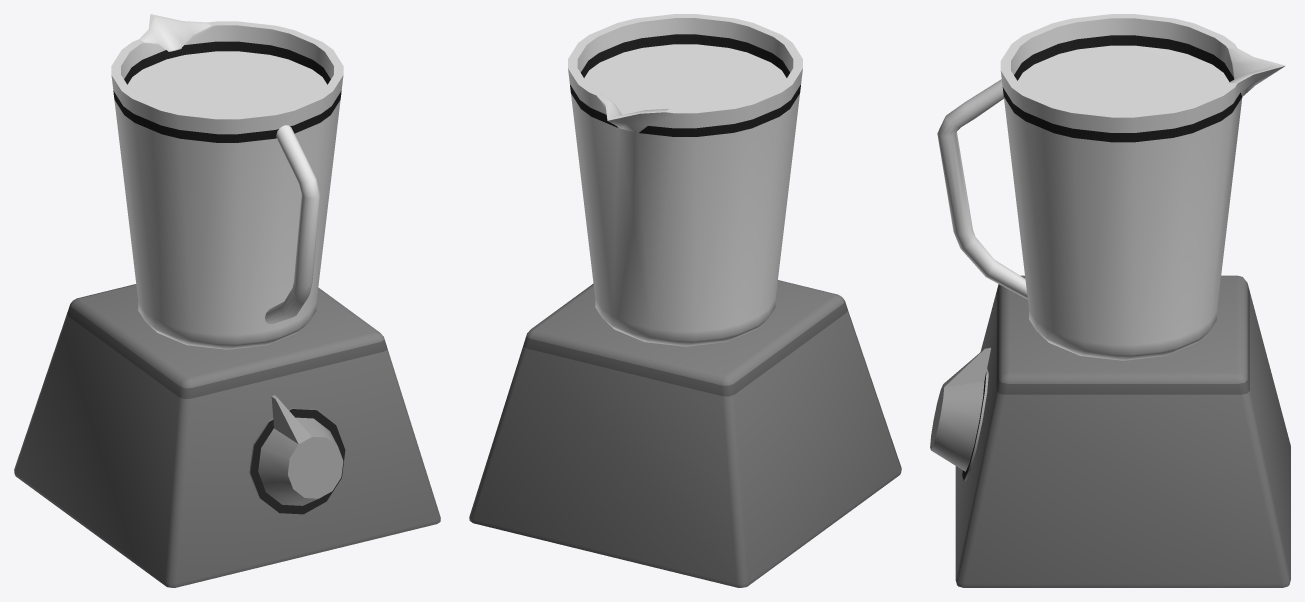
Rendered from blender_model.fbx.
3 renders of one model, left to right at view 1: azimuth 30°, elevation 25°; view 2: azimuth 150°, elevation 25°; view 3: azimuth 270°, elevation 25°, orthographic. The views are drawn at different scales.
Visible parts, largest first — view 1: blender_model_base, blender_model, Cylinder, blender_button; view 2: blender_model_base, blender_model, Cylinder; view 3: blender_model_base, blender_model, Cylinder, blender_button.
Part boxes in pixels (<box>): blender_model_base: <box>14,284,440,587</box>; blender_model: <box>111,14,343,349</box>; Cylinder: <box>127,51,327,115</box>; blender_button: <box>249,395,345,514</box>; blender_model_base: <box>469,280,901,587</box>; blender_model: <box>568,14,802,346</box>; Cylinder: <box>584,44,786,114</box>; blender_model_base: <box>955,275,1290,587</box>; blender_model: <box>937,14,1285,360</box>; Cylinder: <box>1018,45,1229,113</box>; blender_button: <box>930,347,990,481</box>.
Bounding box in the file's own units: 198 × 296 × 213.
